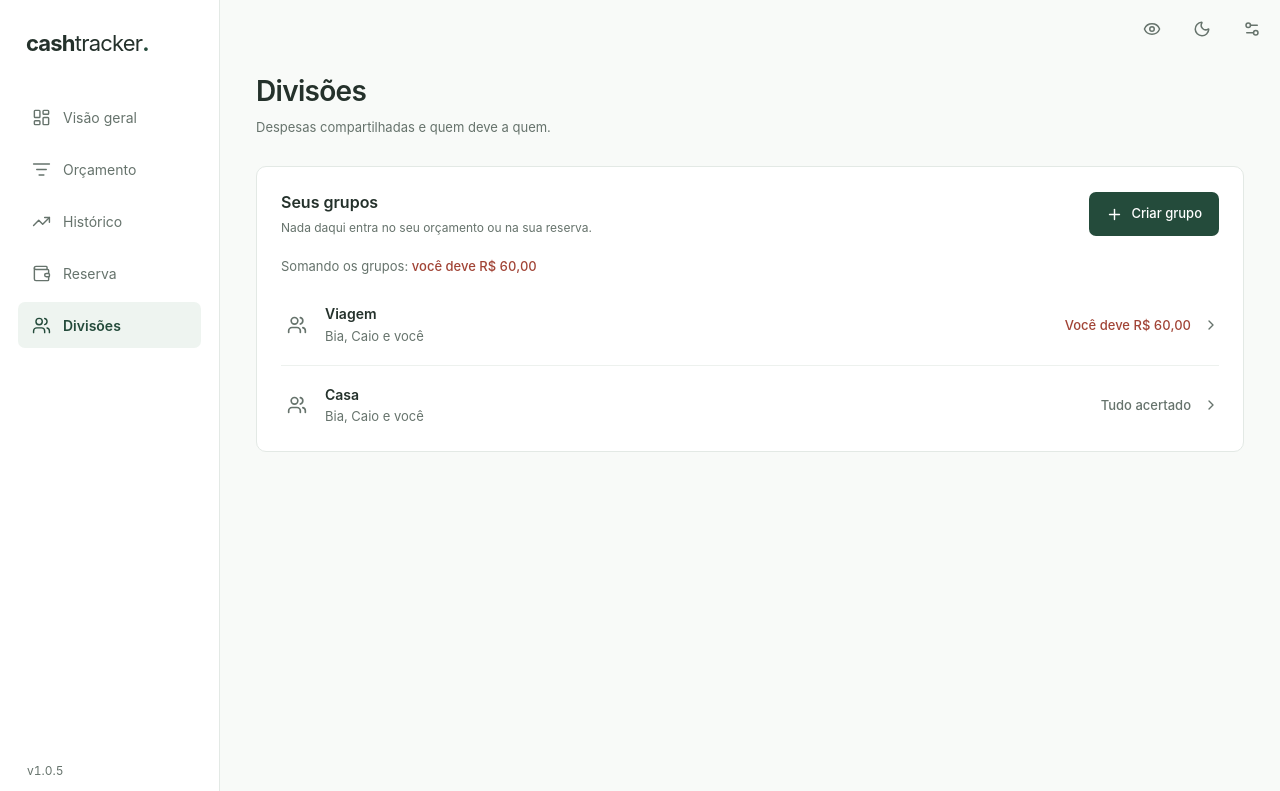
Scenario: Divisões › resume o grupo, agrupa o histórico por mês e busca pela descrição
The image size is (1280, 791).
Expected: the text "Somando os grupos: você deve R$ 60,00" is shown, [281,258,537,274]
Click the link "Viagem Bia, Caio e você Você deve R$ 60,00" at coordinates (351, 314), box [281,286,1219,366]
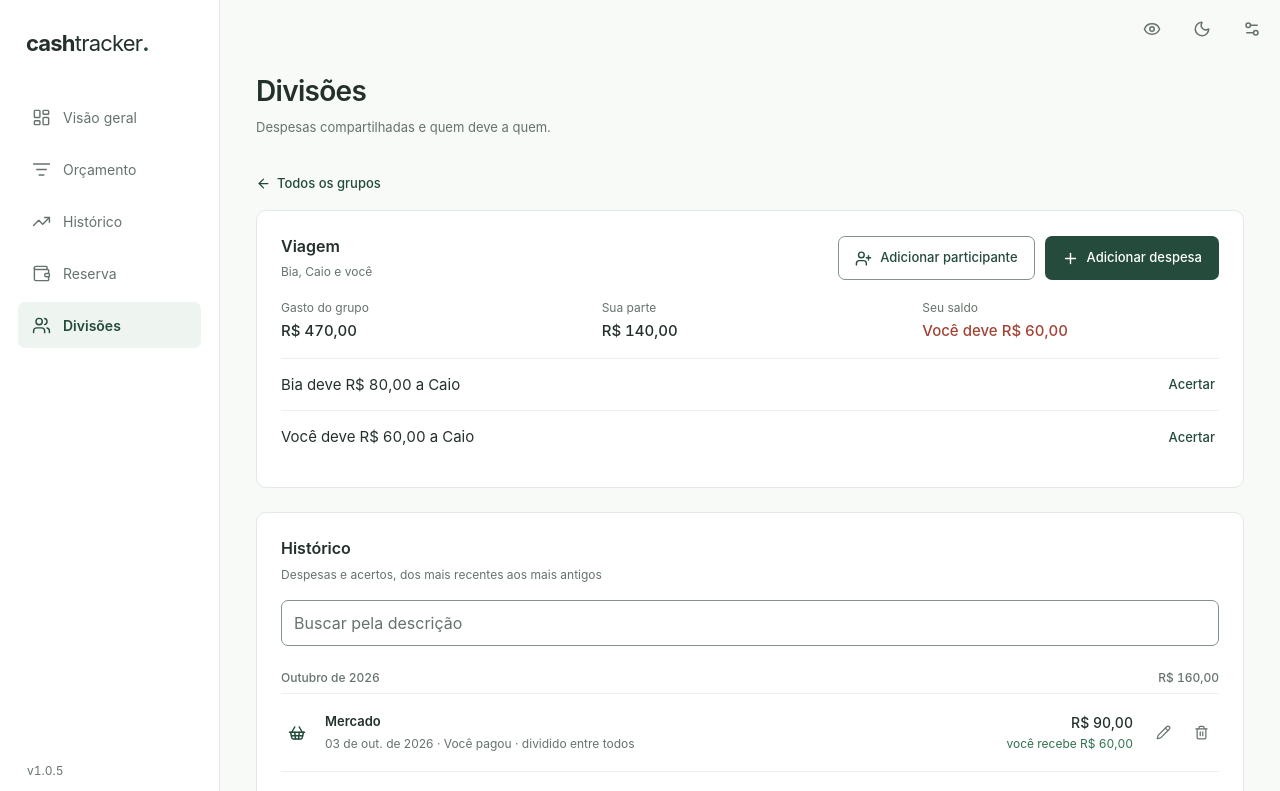
Now the text "Gasto do grupo" reads "Gasto do grupo R$ 470,00 Sua parte R$ 140,00 Seu saldo Você deve R$ 60,00", box [281,300,1068,340]
Now the heading "Outubro de 2026 R$ 160,00" is shown, box [281,670,1219,694]
Now the element with class "split-entry-value" reads "R$ 90,00 você recebe R$ 60,00", box [1006,714,1133,751]
Type " farmacia" into the search field named "Buscar no histórico" at coordinates (750, 623), box [281,600,1219,646]
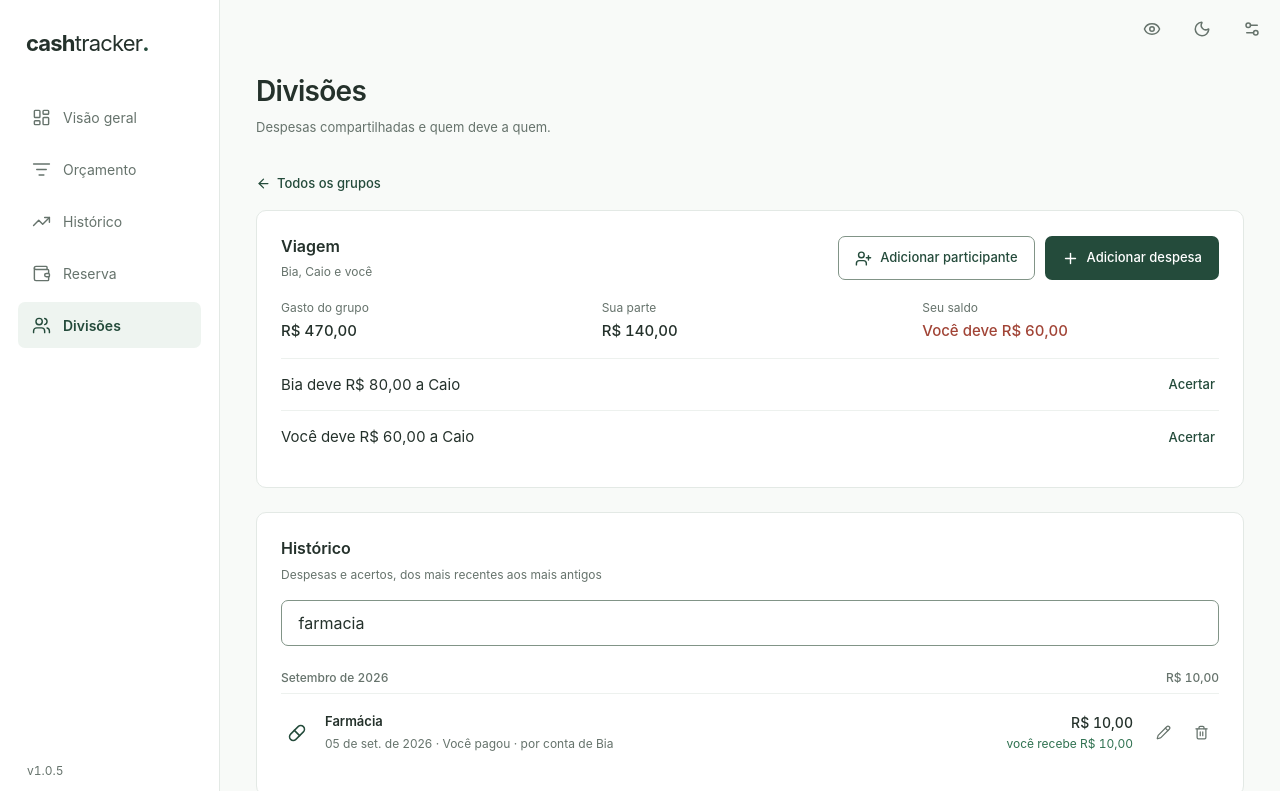
Now the text "Farmácia" is shown, box [325,713,383,729]
Now the text "Gasto do grupo" reads "Gasto do grupo R$ 470,00 Sua parte R$ 140,00 Seu saldo Você deve R$ 60,00", box [281,321,357,340]
Now the text "Mercado" is gone
Replace the text in the search field with "xyz" at coordinates (750, 623), box [281,600,1219,646]
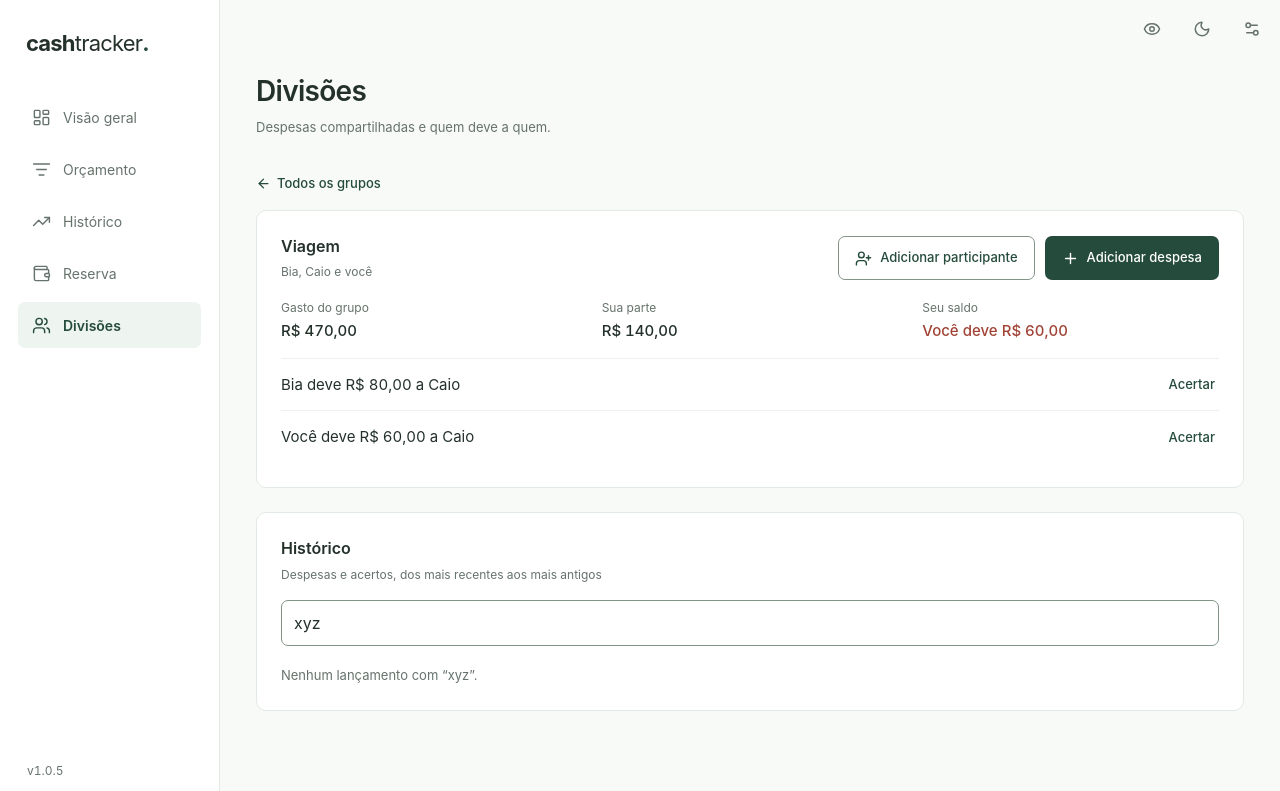
Now the message shows "Nenhum lançamento com “xyz”", box [281,667,478,683]
